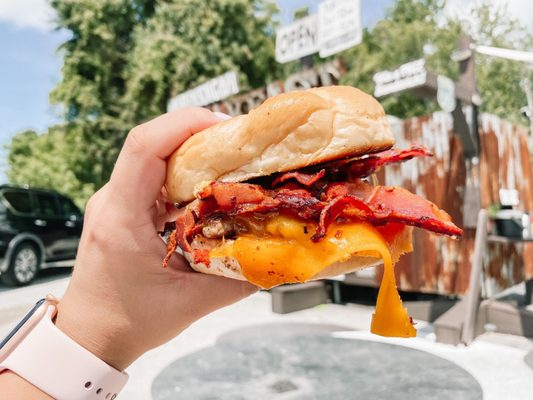soup: (159, 85, 465, 331)
